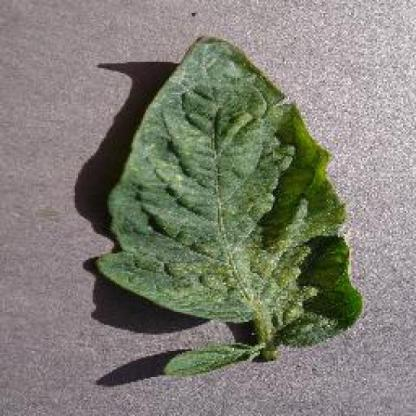Tomato_Spider_Mites: (97, 35, 362, 373)
